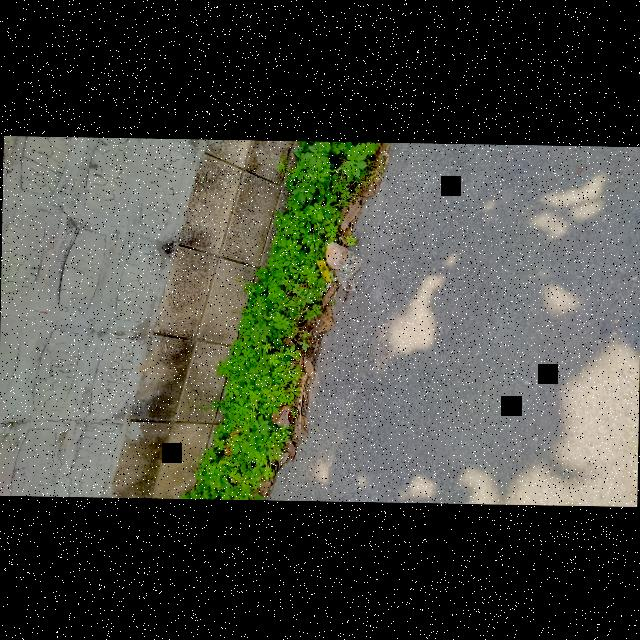plastic_bag: (311, 228, 364, 302)
